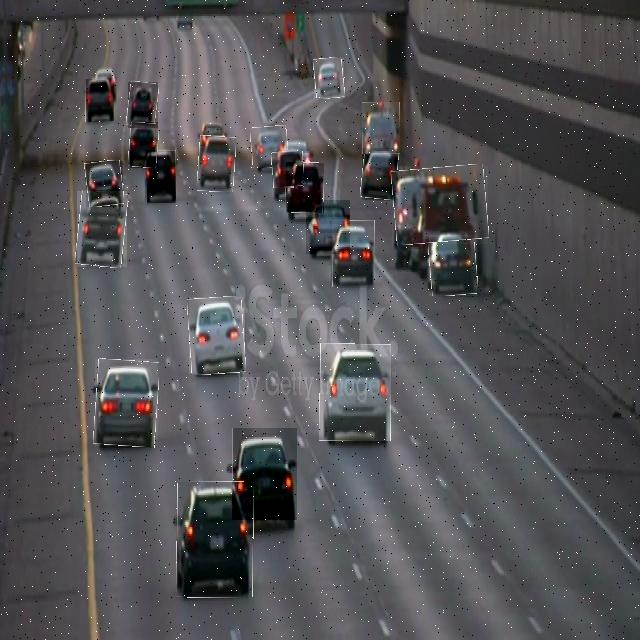Car: (176, 482, 254, 598), (320, 344, 391, 441), (232, 428, 297, 520), (95, 359, 158, 446), (189, 297, 245, 374), (429, 235, 477, 296), (332, 220, 375, 287), (306, 200, 351, 254), (362, 102, 400, 154), (286, 163, 324, 213), (362, 148, 398, 200), (86, 161, 123, 207), (146, 150, 176, 203), (251, 126, 289, 167), (128, 82, 158, 128), (130, 122, 158, 168), (314, 58, 344, 98), (272, 152, 303, 188)
Truck: (392, 166, 488, 244), (77, 191, 127, 267), (198, 135, 235, 192), (85, 78, 114, 122)
